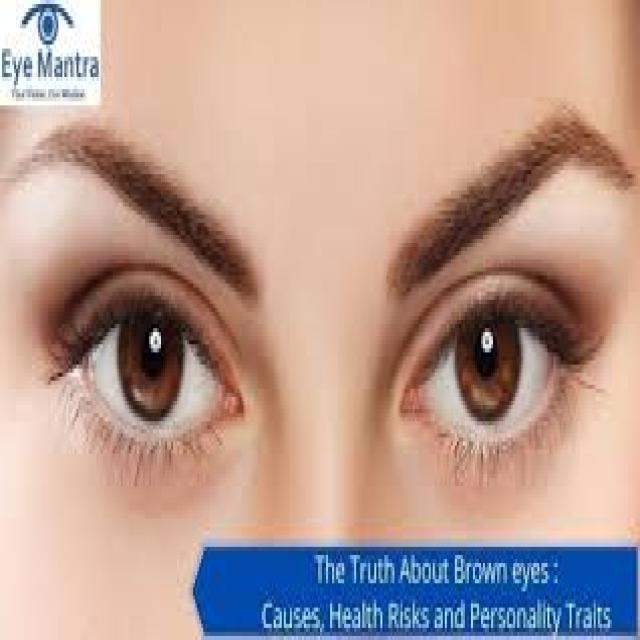Eyes-iris: (448, 297, 526, 429), (112, 306, 190, 428)
